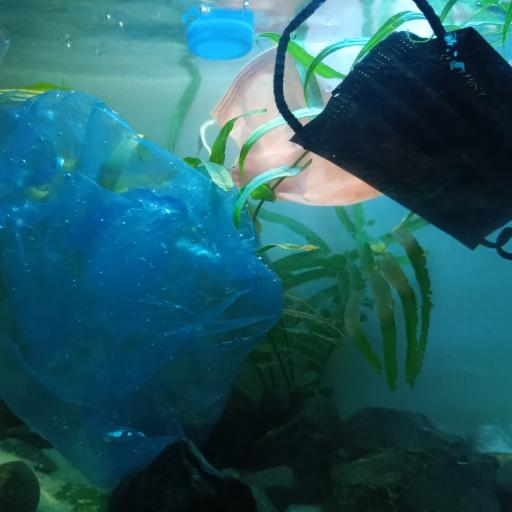bottle_cap: (188, 14, 250, 60)
mask: (275, 1, 512, 257), (202, 46, 384, 207)
plastic_bag: (0, 93, 285, 490)
